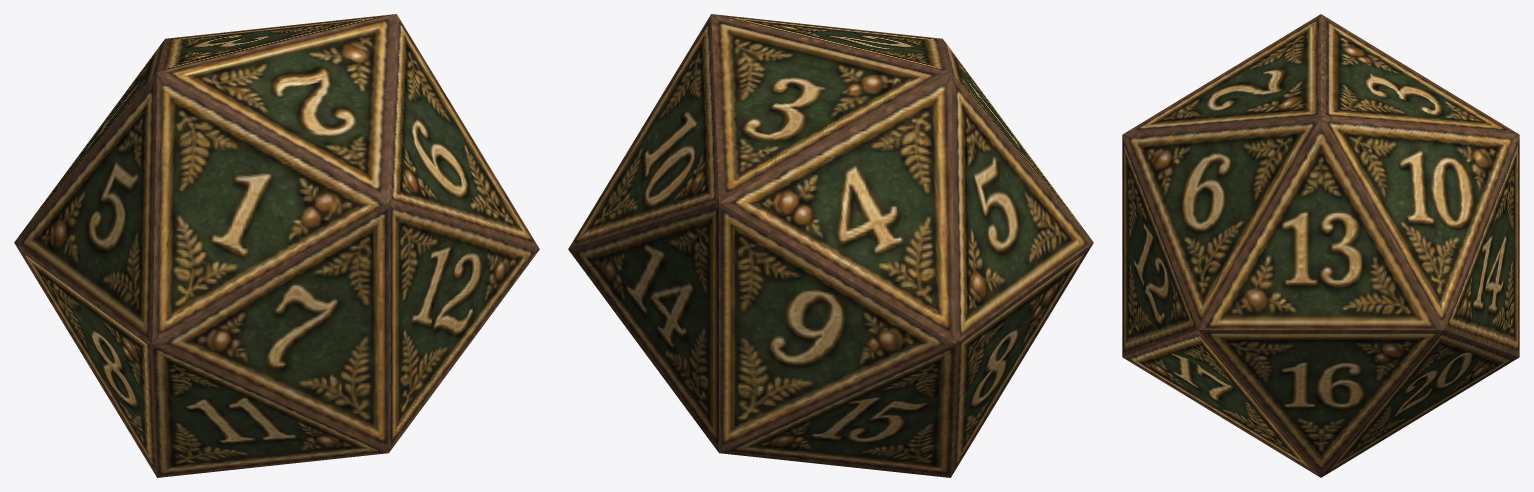
The picture shows the model from 3 angles, left to right: view 1: azimuth 30°, elevation 25°; view 2: azimuth 150°, elevation 25°; view 3: azimuth 270°, elevation 25°; orthographic projection. The views are drawn at different scales.
Visible parts, largest first — view 1: Themed_D20; view 2: Themed_D20; view 3: Themed_D20.
Boxes of the visible parts, x1=… form: Themed_D20: x1=14, y1=14, x2=539, y2=477; Themed_D20: x1=568, y1=14, x2=1093, y2=477; Themed_D20: x1=1122, y1=14, x2=1519, y2=477.
Size of the model in its own units: 1.22 by 1.22 by 1.22.
1 material, 1 textured.
